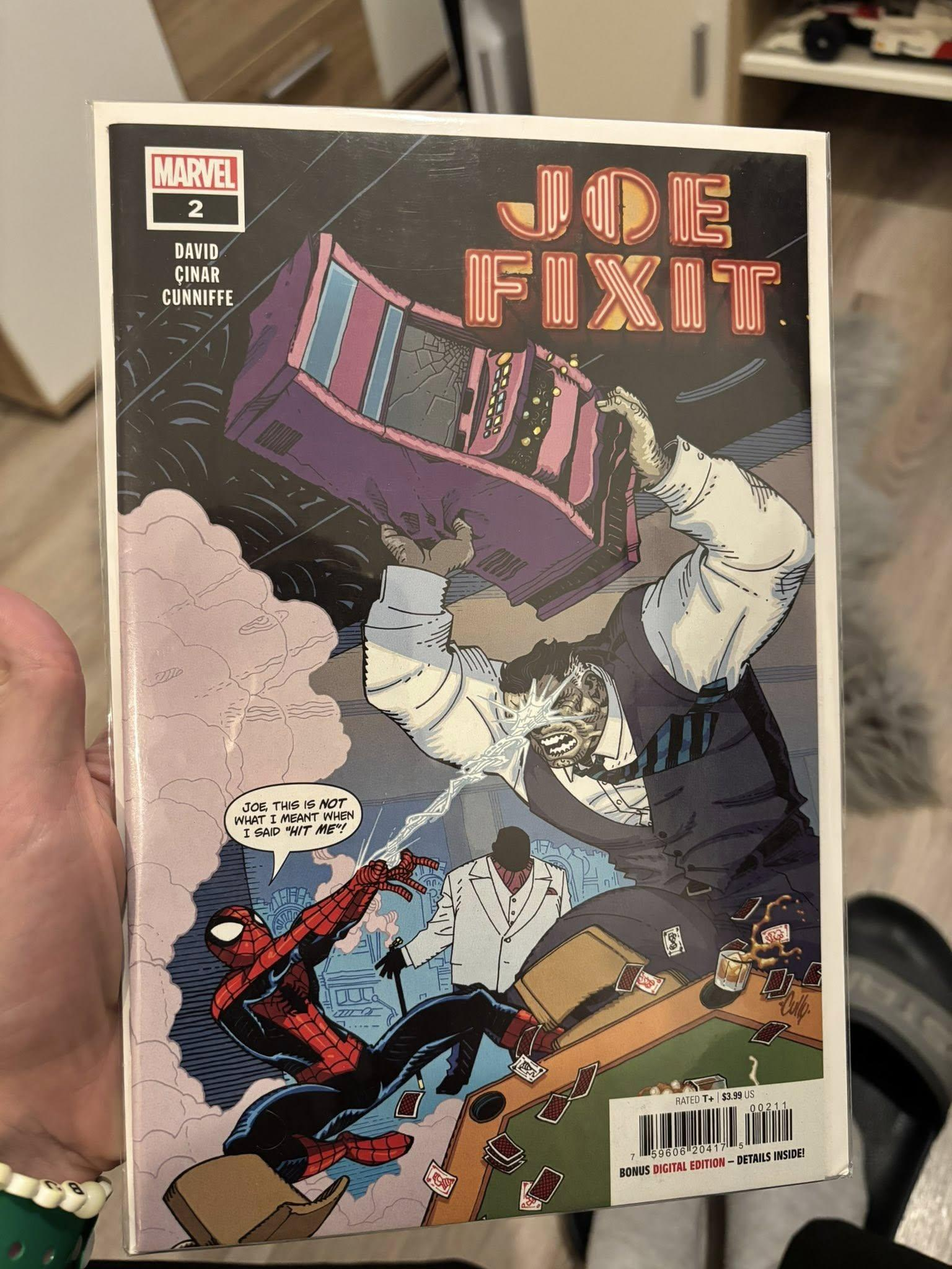comic: (96, 90, 851, 1252)
